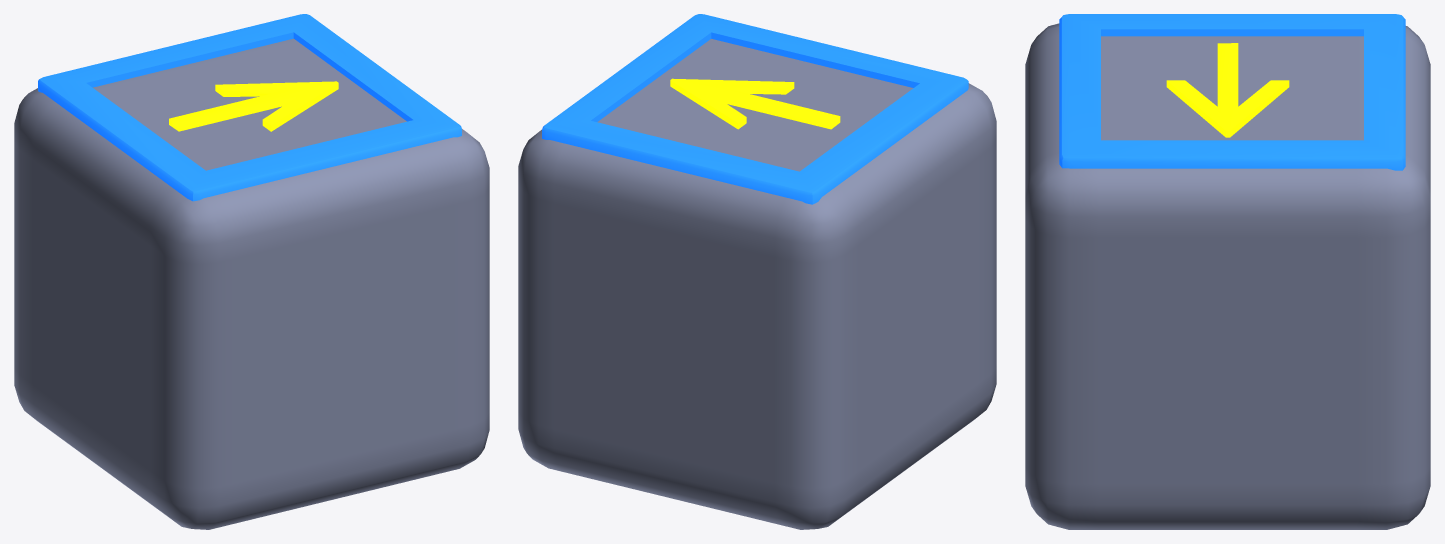
File: CannonTileModel.fbx
3 renders of one model, left to right at view 1: azimuth 30°, elevation 25°; view 2: azimuth 150°, elevation 25°; view 3: azimuth 270°, elevation 25°, orthographic. The views are drawn at different scales.
Visible parts, largest first — view 1: CannonTile, CannonTileGlow, CannonTileAdditionalGlow; view 2: CannonTile, CannonTileGlow, CannonTileAdditionalGlow; view 3: CannonTile, CannonTileGlow, CannonTileAdditionalGlow.
Part boxes in pixels (left/top/right/bottom): CannonTile: left=14, top=38, right=489, bottom=529; CannonTileGlow: left=38, top=14, right=461, bottom=201; CannonTileAdditionalGlow: left=169, top=81, right=338, bottom=131; CannonTile: left=518, top=39, right=996, bottom=529; CannonTileGlow: left=542, top=14, right=968, bottom=204; CannonTileAdditionalGlow: left=670, top=78, right=840, bottom=129; CannonTile: left=1025, top=23, right=1430, bottom=529; CannonTileGlow: left=1059, top=14, right=1405, bottom=170; CannonTileAdditionalGlow: left=1166, top=43, right=1289, bottom=137.
Bounding box in the file's own units: 200 × 204 × 200.
